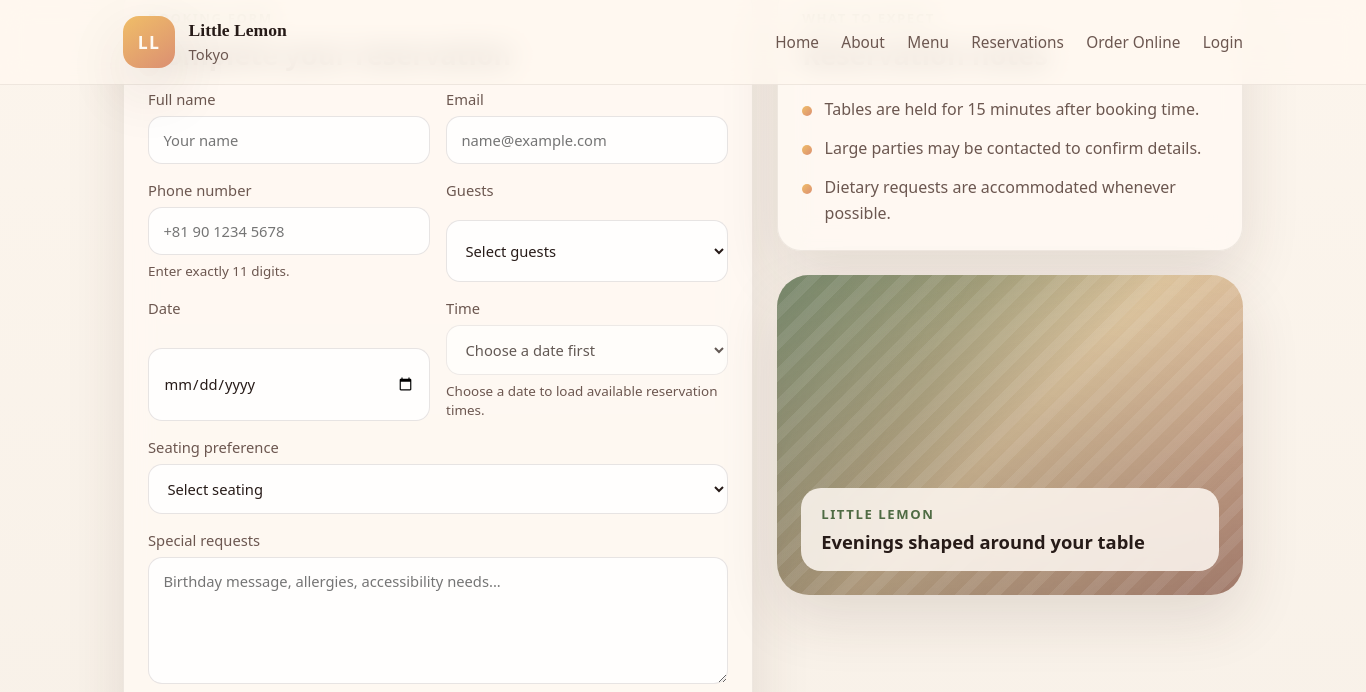
Test: loads available times from the API based on the selected date
(page scrolled)
Expected: the dropdown with id "time" is disabled, x1=446 y1=325 x2=728 y2=375
Step 1. Type "2026-03-21" into the date field with id "date" → (289, 384), box x1=148 y1=348 x2=430 y2=421
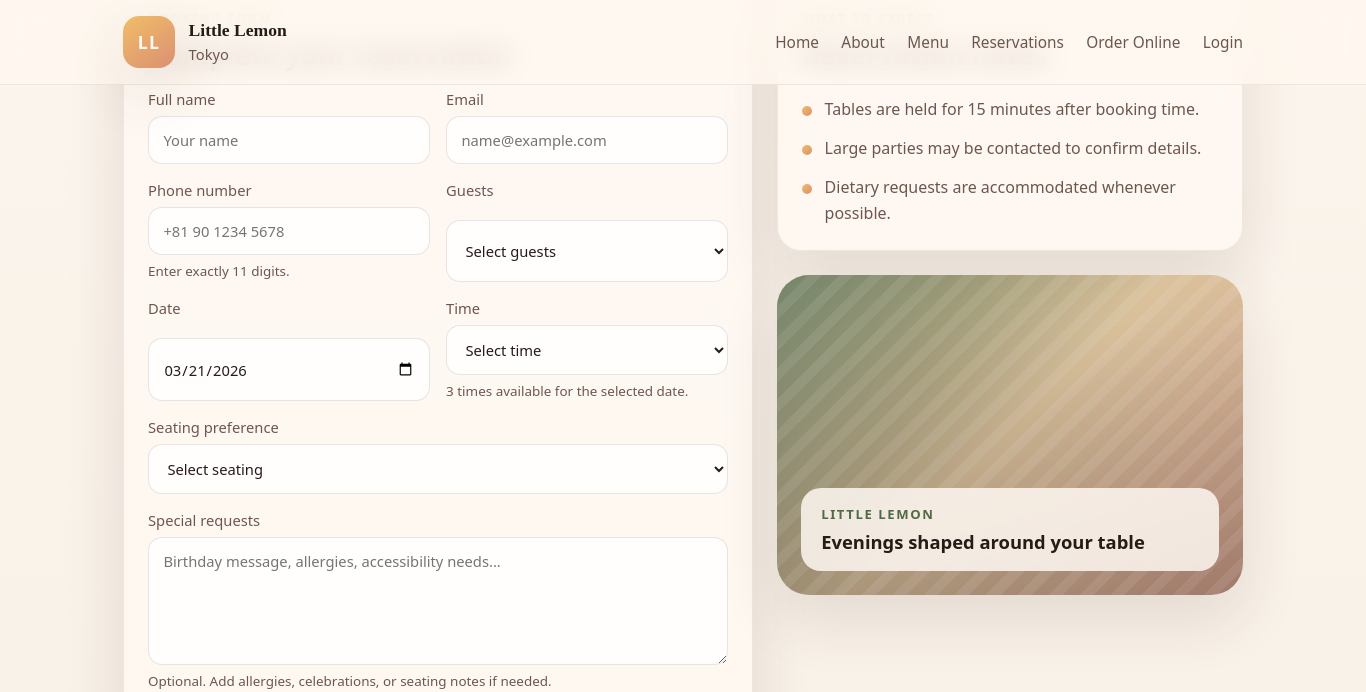
Result: the dropdown with id "time" is enabled at x1=446 y1=325 x2=728 y2=375
